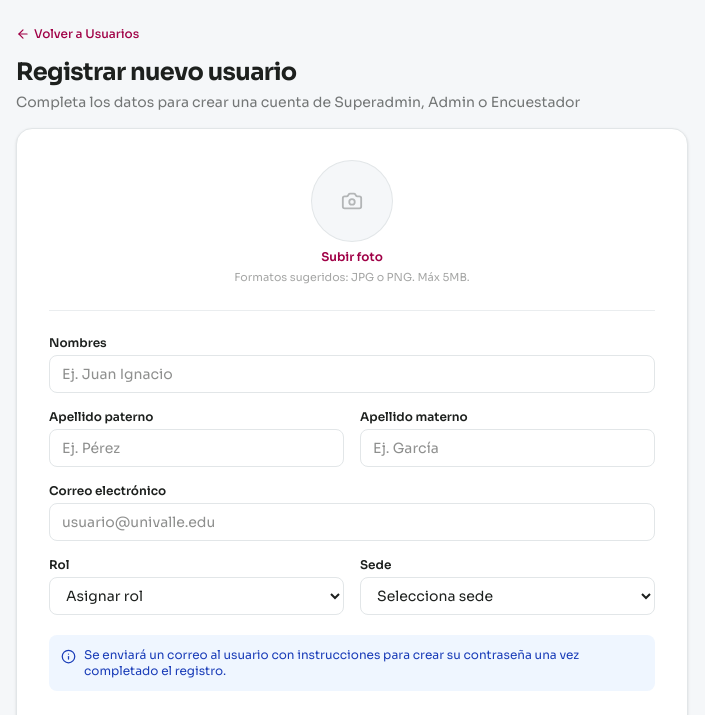
Test: RegistrarUsuarioPage › si el correo no se pudo enviar, muestra la contraseña temporal como respaldo
Type "Juan" into the field with placeholder "Ej. Juan Ignacio" at (352, 374), box [49, 354, 655, 392]
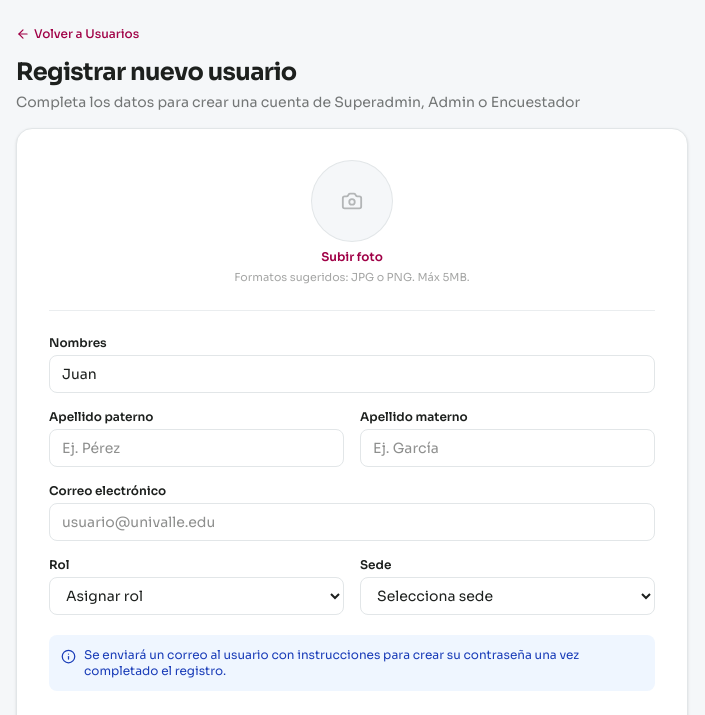
Type "Pérez" into the field with placeholder "Ej. Pérez" at (196, 448), box [49, 428, 344, 466]
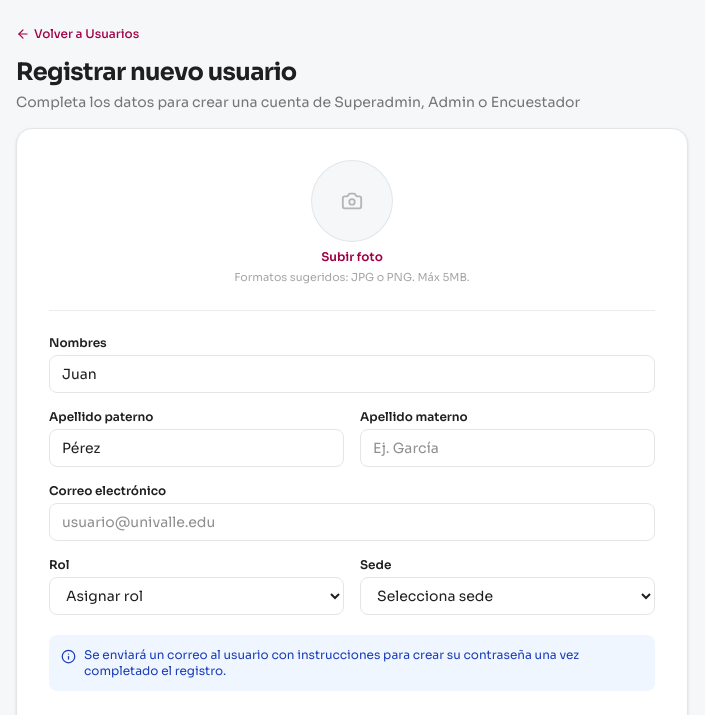
Type "juan@univalle.edu" into the field with placeholder "usuario@univalle.edu" at (352, 522), box [49, 502, 655, 540]
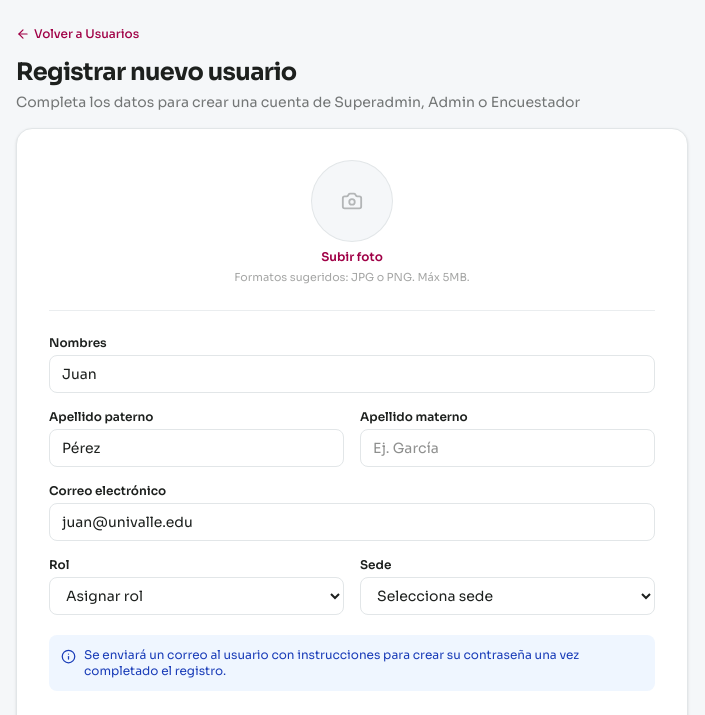
Select "Admin" in the dropdown showing "Asignar rol" at (196, 596), box [49, 576, 344, 614]
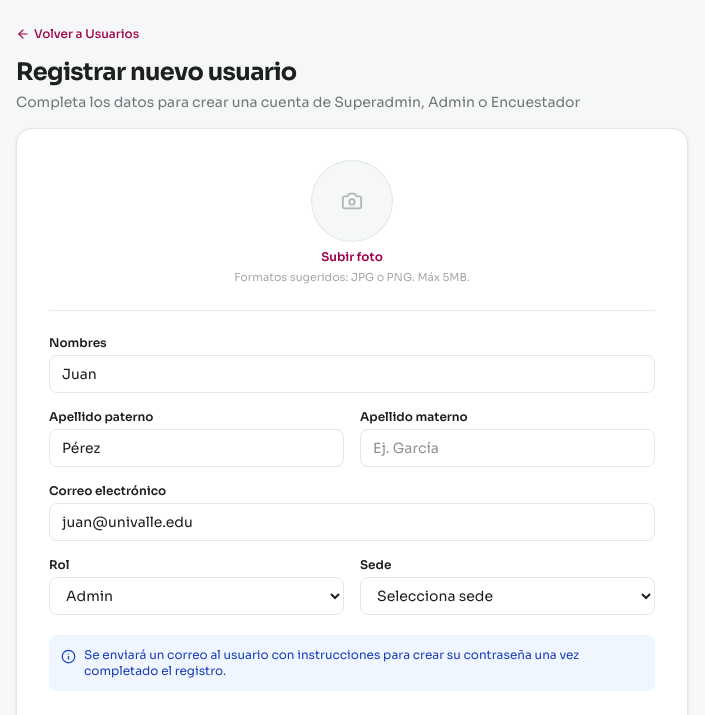
Select "Cochabamba" in the dropdown showing "Selecciona sede" at (508, 596), box [360, 576, 655, 614]
(page scrolled)
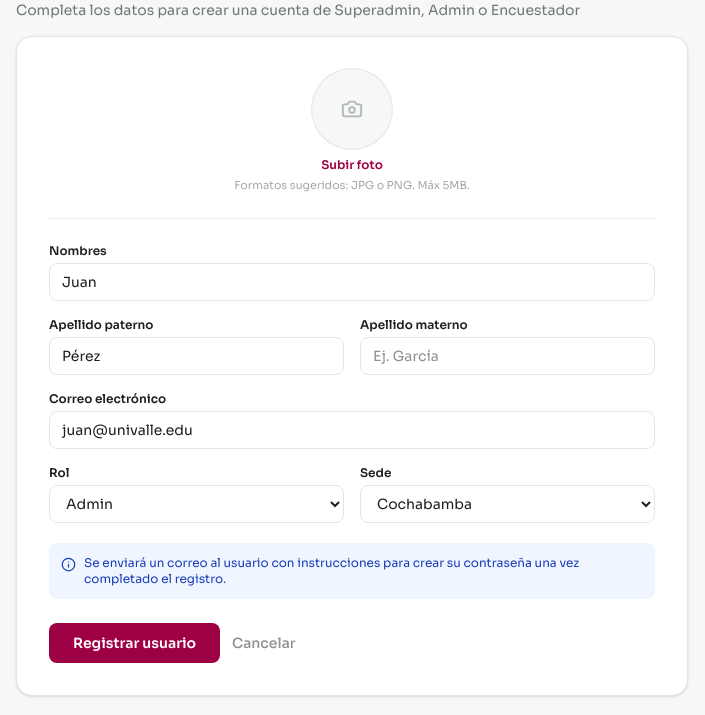
Click the button "Registrar usuario" at (134, 642), box [49, 622, 220, 662]
(page scrolled)
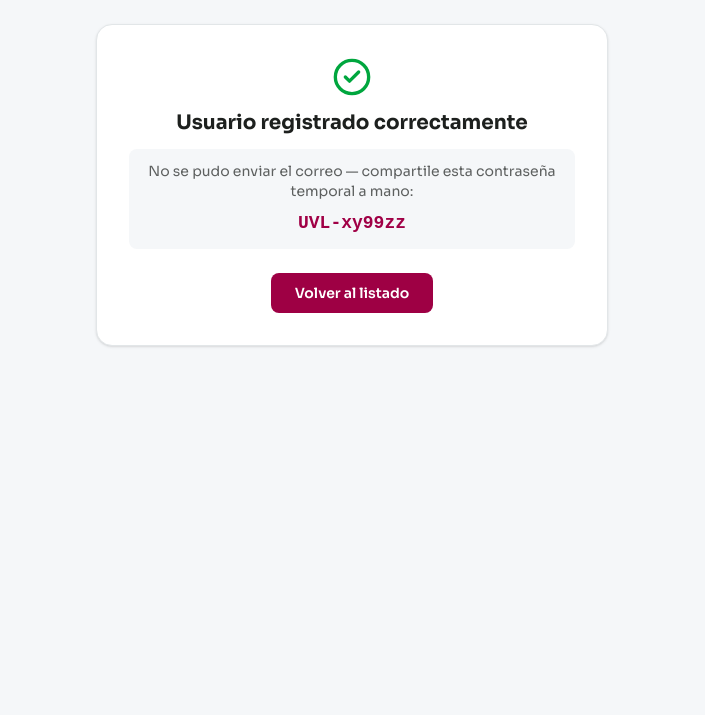
expect the text "UVL-xy99zz" is shown: met, box [298, 213, 406, 233]
